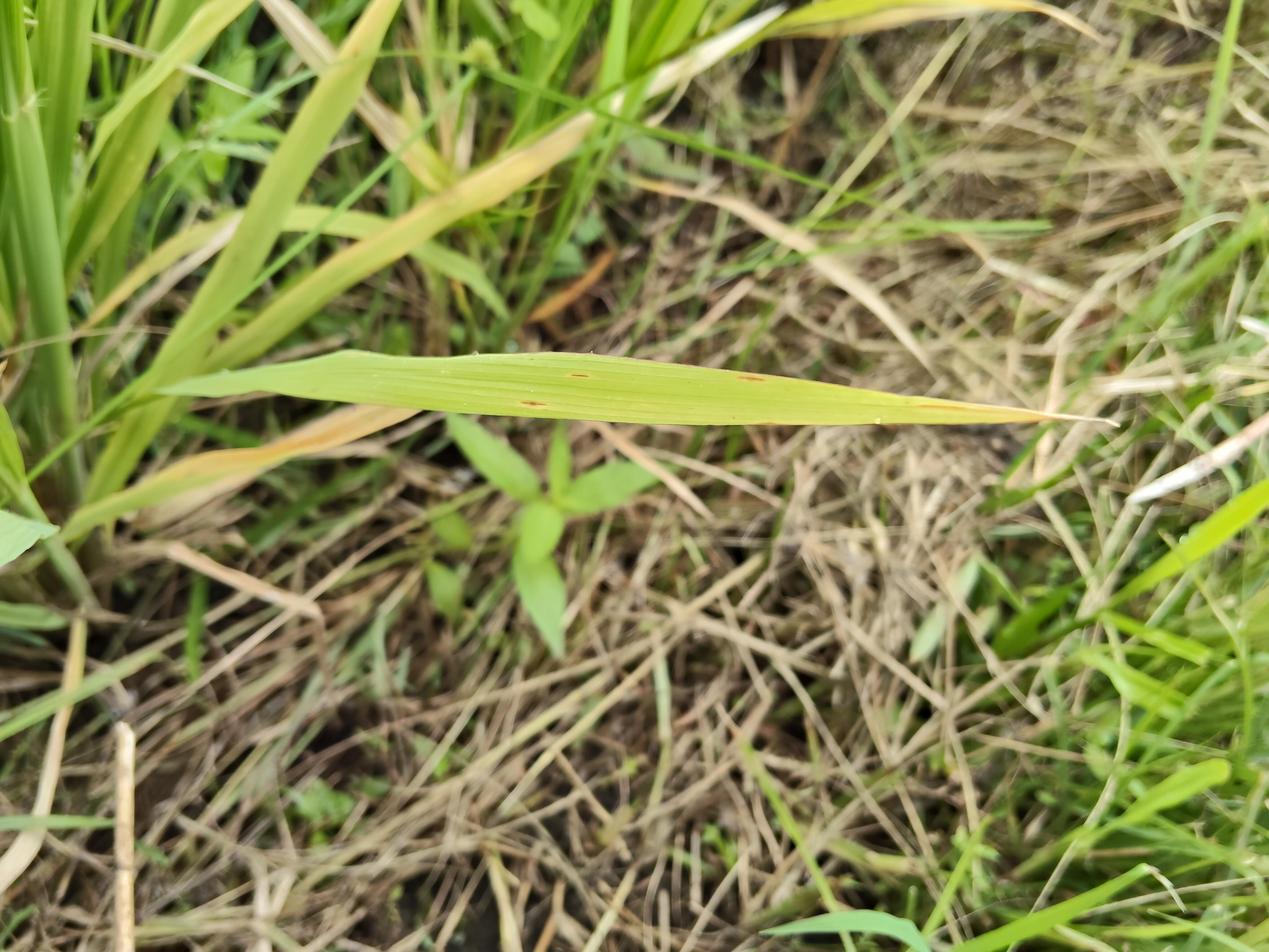NBS: (736, 376, 767, 381), (521, 402, 547, 406), (571, 375, 590, 377)
